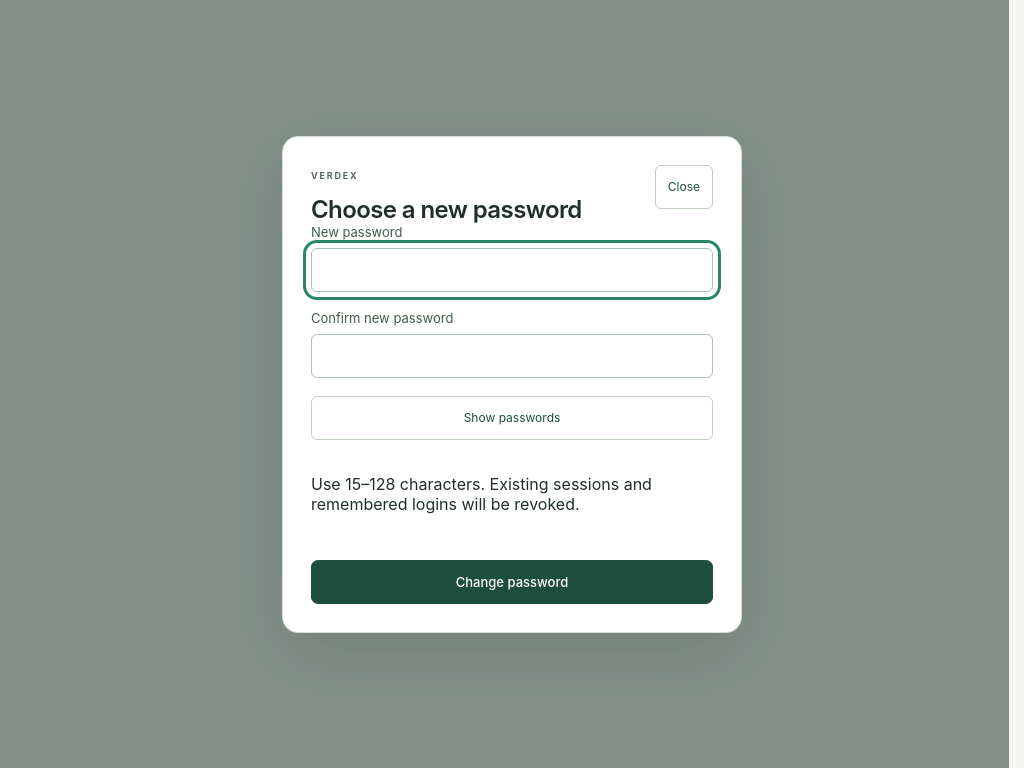
removes the token from history, validates confirmation, and resets only on explicit submit
In the password field labelled "New password": (512, 270) [311, 248, 713, 292], type "NewPassword123456!"
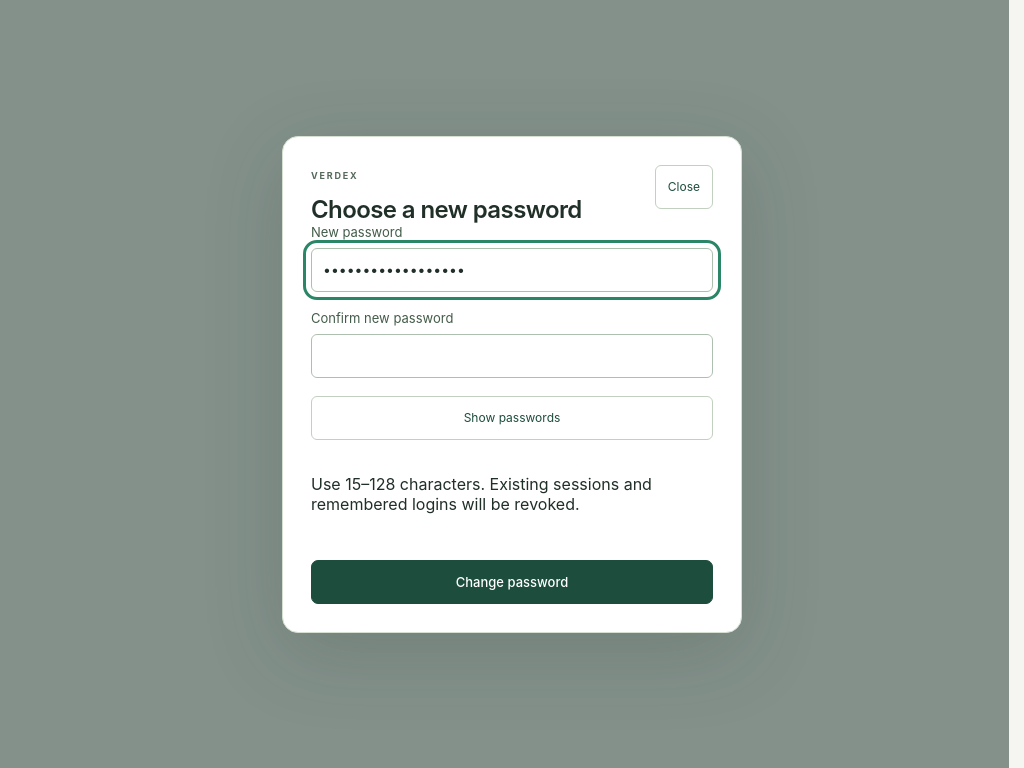
In the password field labelled "Confirm new password": (512, 356) [311, 334, 713, 378], type "DifferentPassword123!"
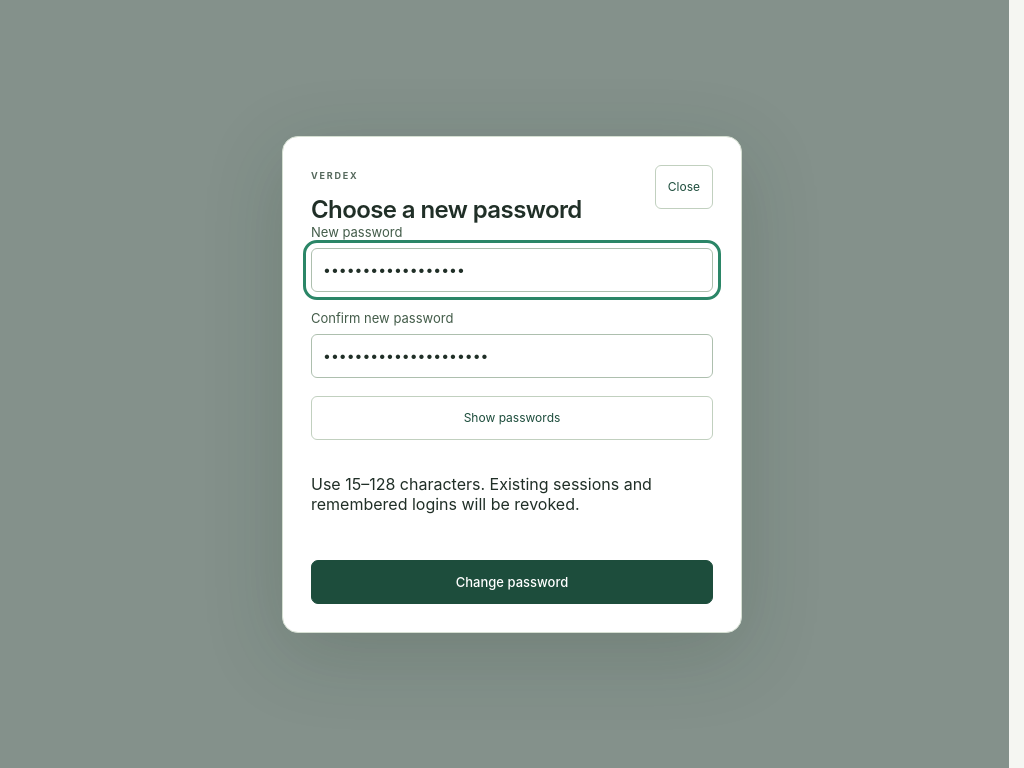
Click the button "Change password": click(512, 582) [311, 560, 713, 604]
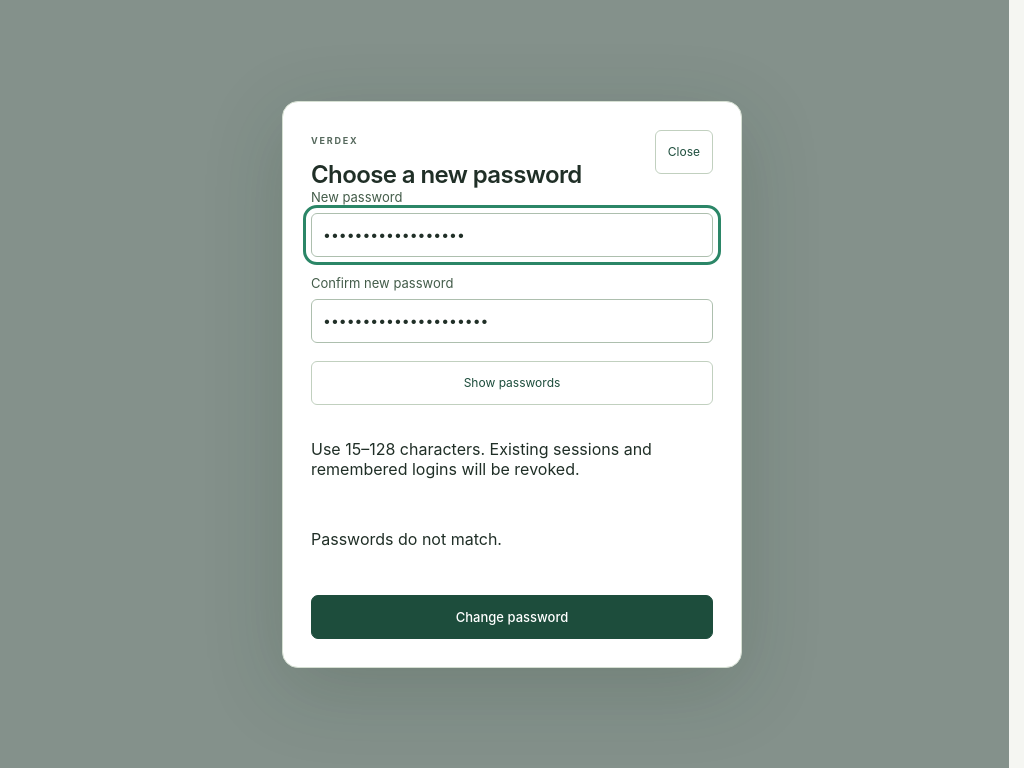
expect the message reads "Passwords do not match.": met, box [311, 528, 502, 548]
In the password field labelled "Confirm new password": (512, 320) [311, 298, 713, 342], type "NewPassword123456!"
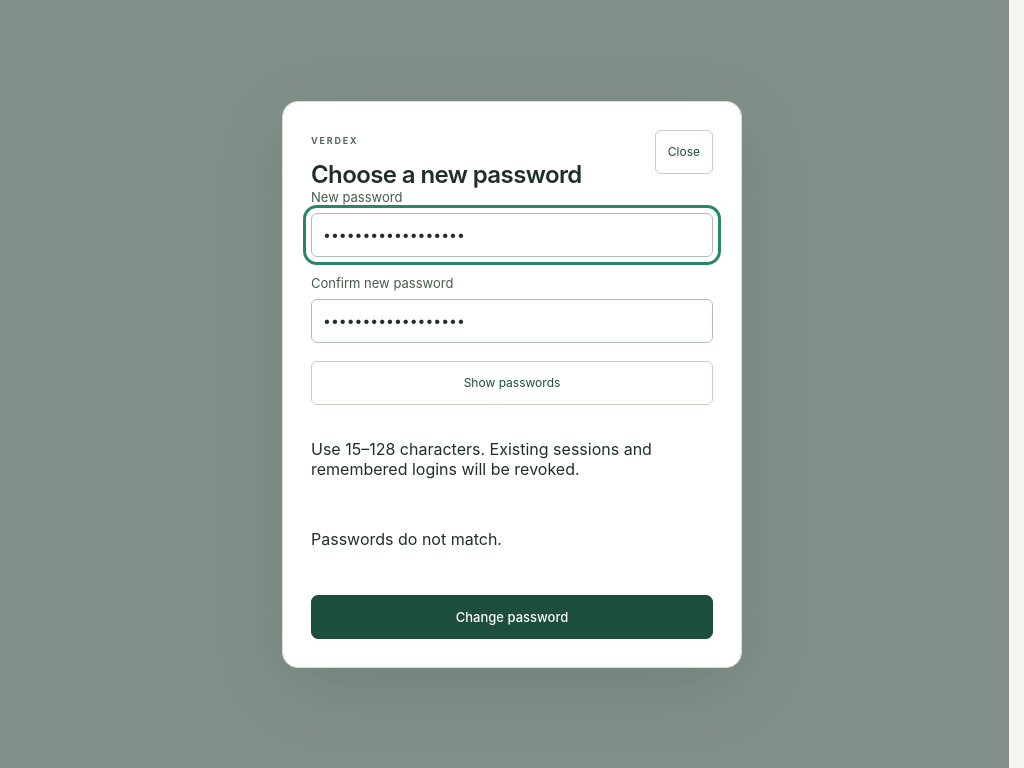
Click the button "Change password": click(512, 616) [311, 594, 713, 638]
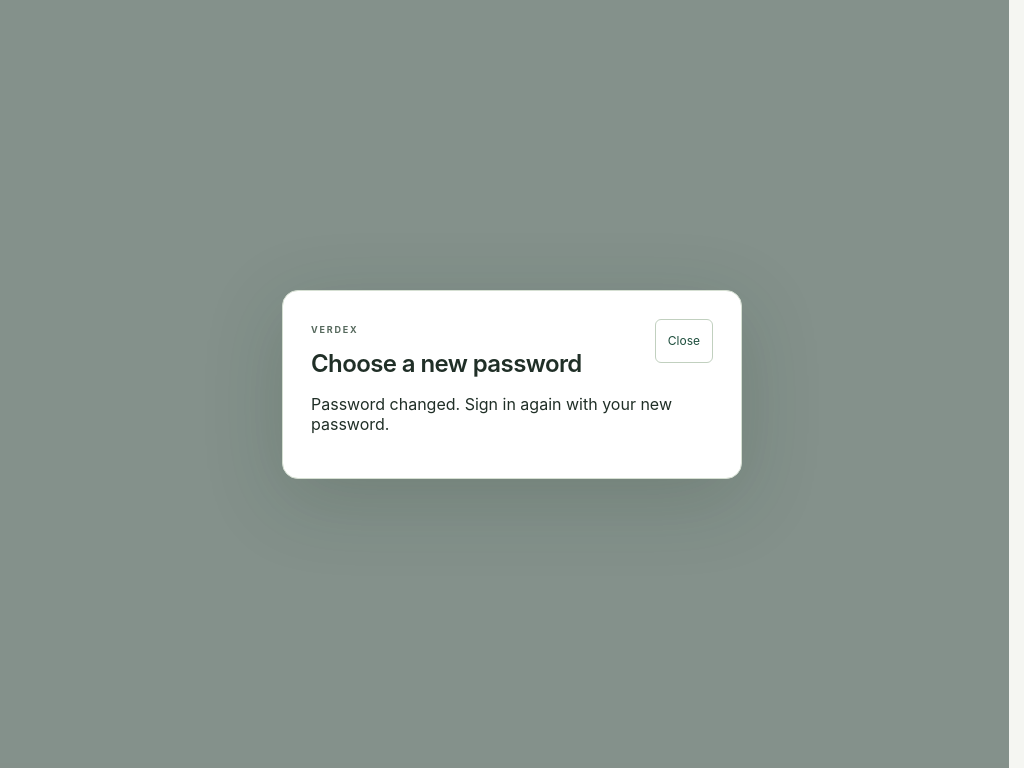
expect the text "Password changed. Sign in again with your new password." is shown: met, box [311, 394, 713, 434]
